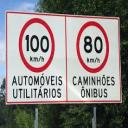speed_limit_100: (18, 17, 54, 73)
speed_limit_80: (75, 20, 110, 73)
